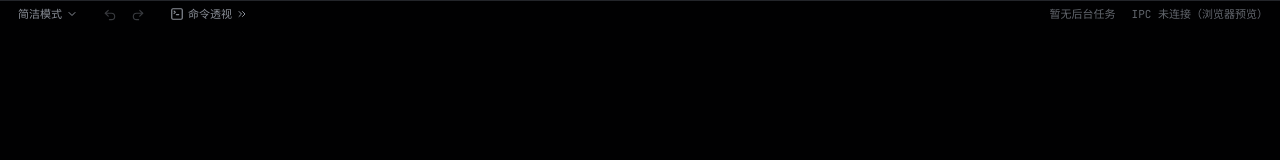
Scenario: BottomBar command lens (F-13) › reflects the expert mode from the ui store
This screenshot has width=1280, height=160.
Click the button with test id "mode-switch" at (48, 14), box [12,5,84,24]
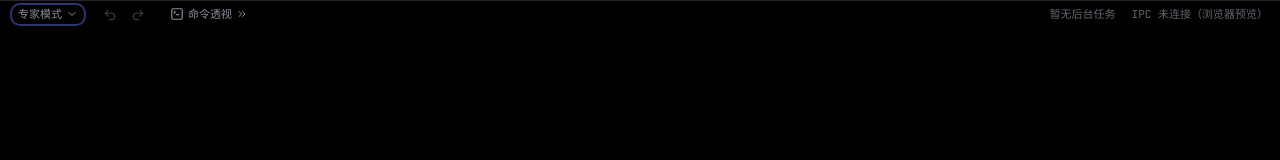
Now the button with test id "mode-switch" reads "专家模式", box [12,5,84,24]
